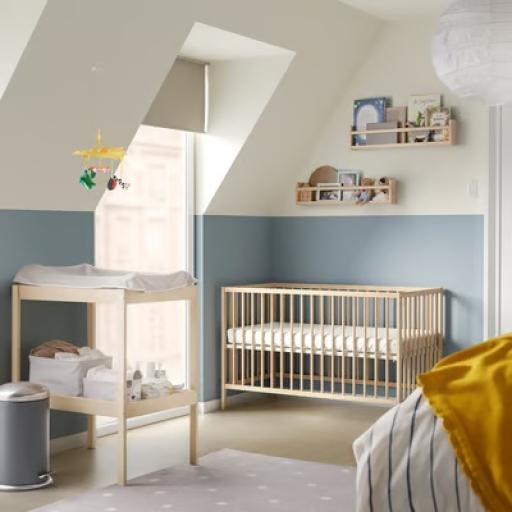crib: (222, 283, 442, 408)
